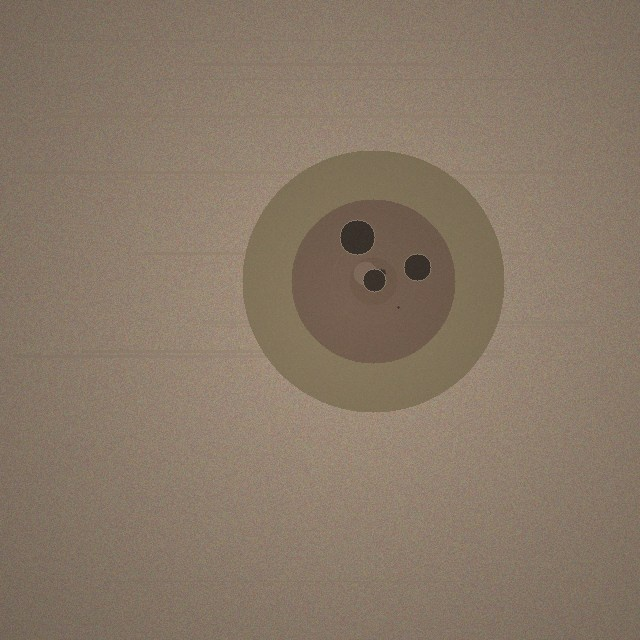shrinkage: (242, 150, 504, 412)
